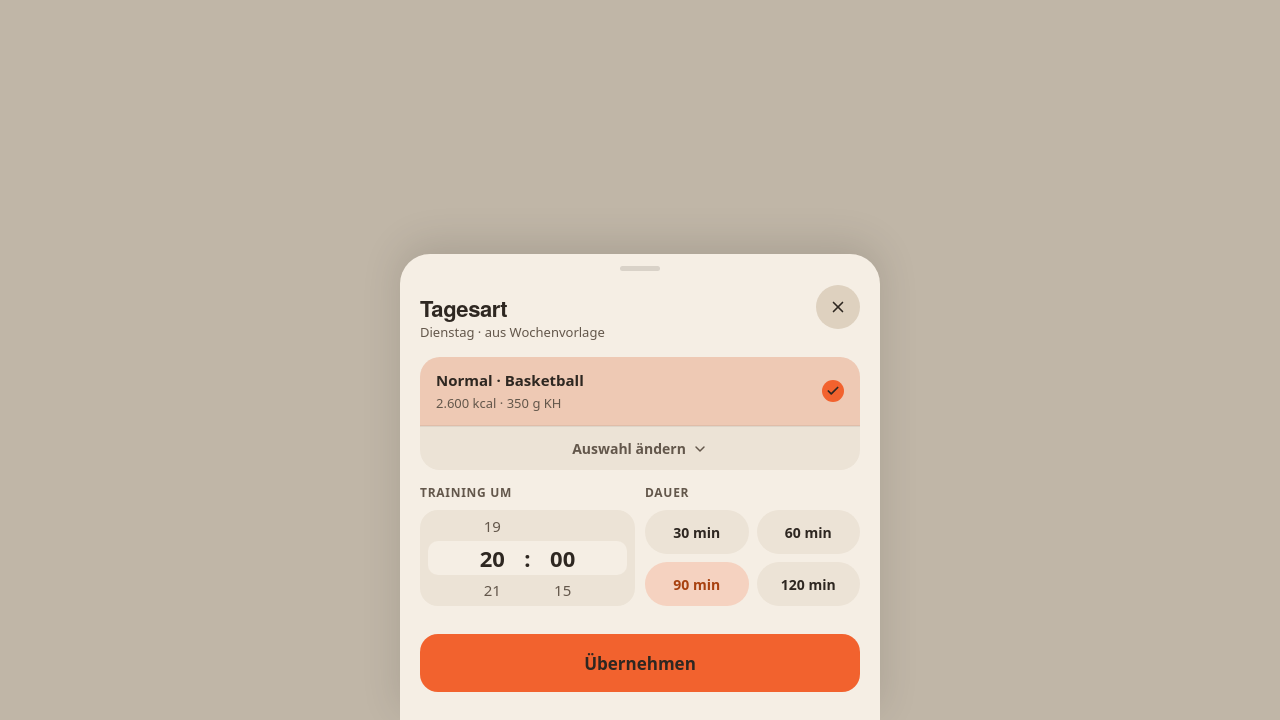
it: DayTypeSheet › shows server validation errors
(page scrolled)
Expected: the button "Auswahl ändern" is shown, [420,426,860,470]
Click the button "Übernehmen": x=640, y=663 [420,634,860,692]
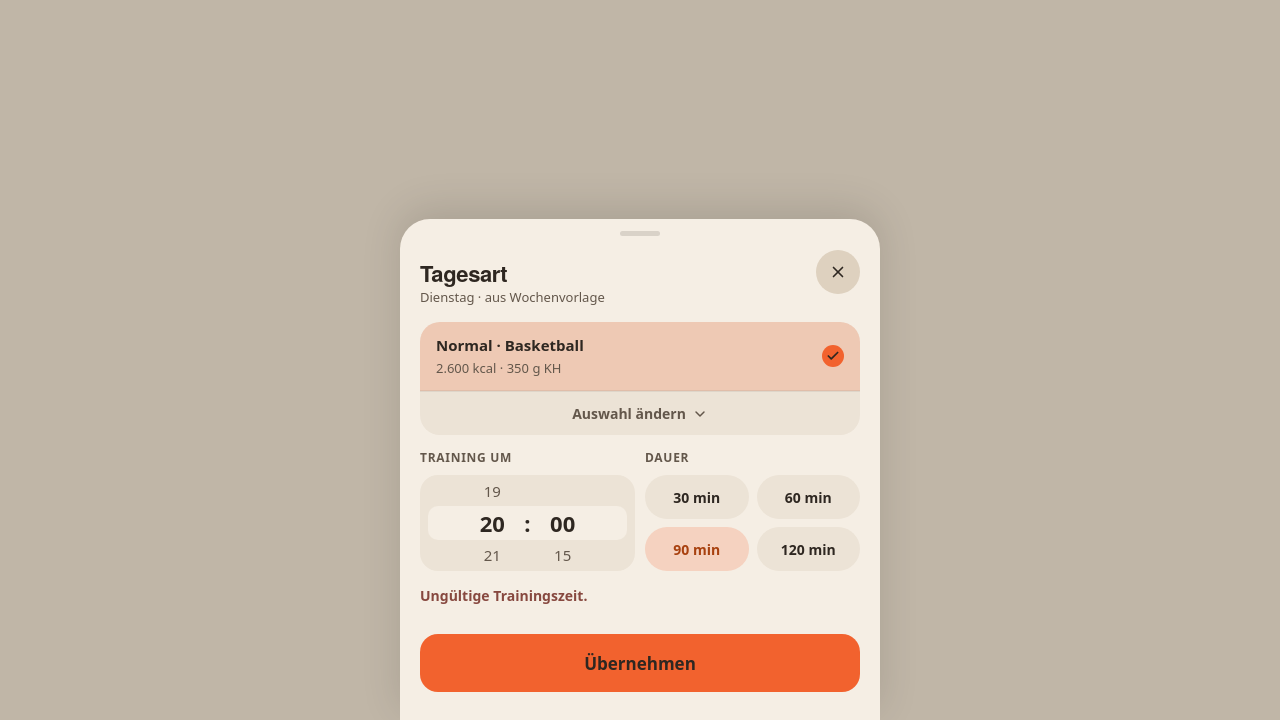
Expected: the message reads "Ungültige Trainingszeit.", [420,586,587,605]
